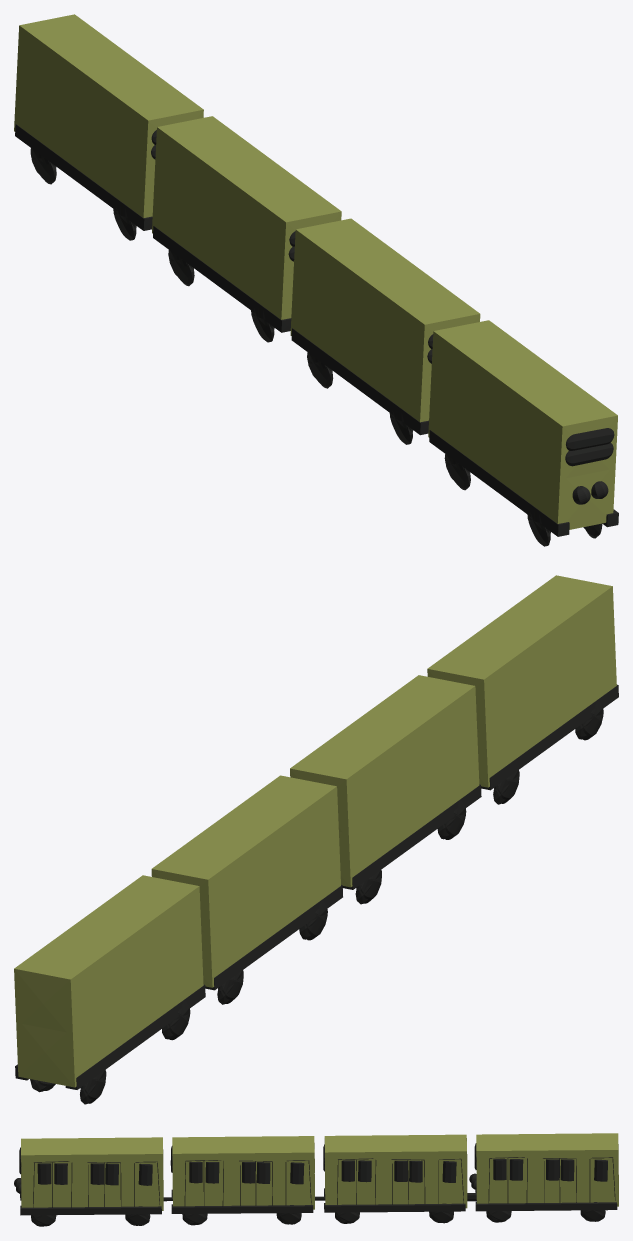
Rendered from Sohle3_trainOnly.fbx.
3 renders of one model, top to bottom at view 1: azimuth 30°, elevation 25°; view 2: azimuth 150°, elevation 25°; view 3: azimuth 270°, elevation 25°, orthographic. The views are drawn at different scales.
Parts seen in each view (by area): view 1: NewLayer2; view 2: NewLayer2; view 3: NewLayer2.
Boxes of the visible parts, box(x1,y1,x2,y2) form: NewLayer2: box(14, 14, 618, 546); NewLayer2: box(14, 575, 618, 1104); NewLayer2: box(14, 1133, 618, 1226).
Size of the model in its own units: 0.233 by 0.4633 by 3.14.
